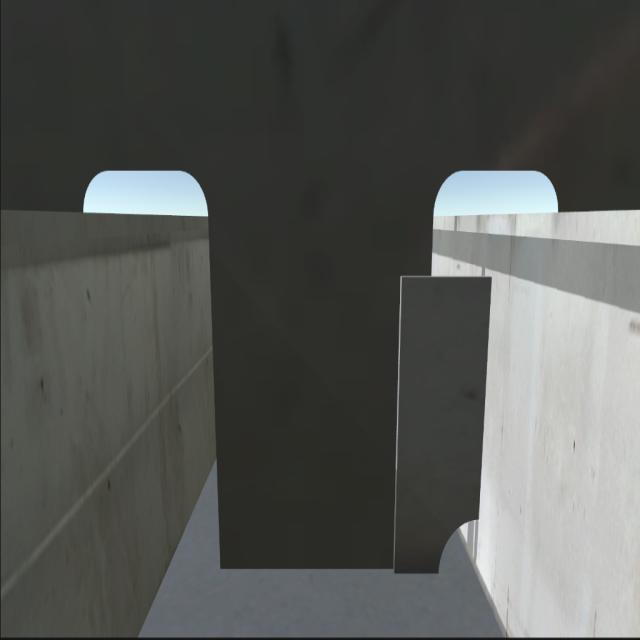fillet_hole: (434, 517, 482, 576)
fillet_yong_jeop_jang: (212, 557, 445, 583)
longi_yong_jeop_jang: (474, 268, 490, 520)
plate_CP01: (394, 273, 486, 572)
